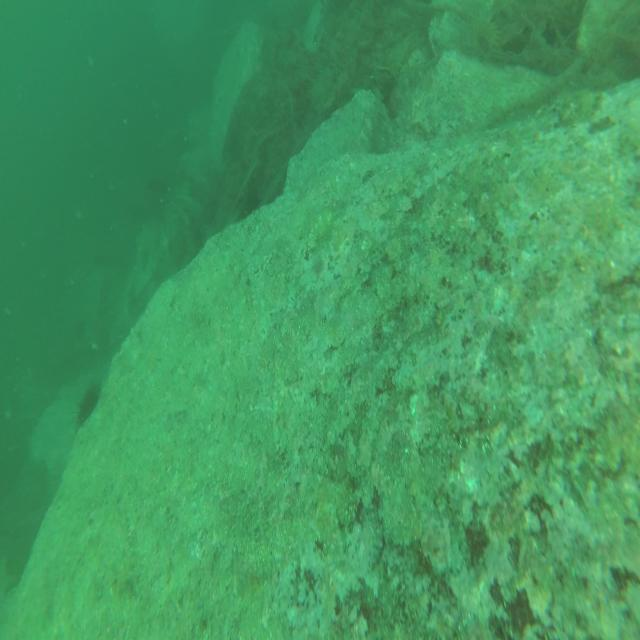echinus: (72, 382, 101, 424)
